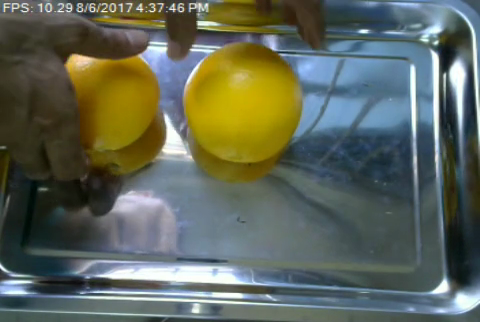Orange: (181, 40, 304, 162)
